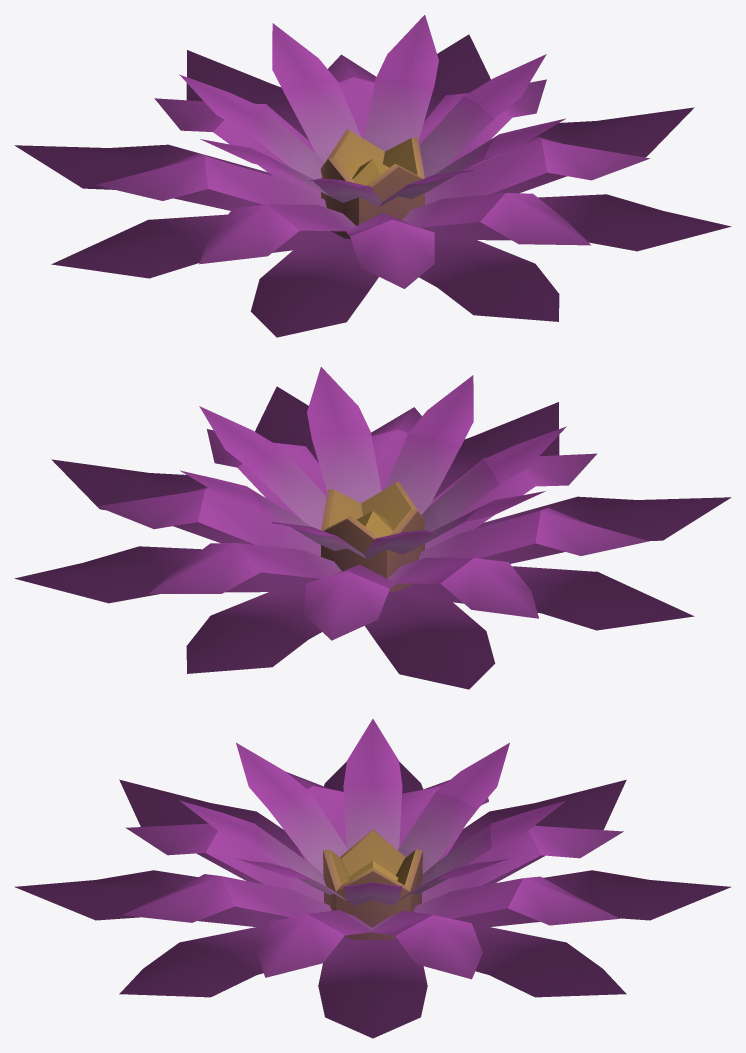
The model's file is WaterLilly.fbx.
The picture shows the model from 3 angles, top to bottom: view 1: azimuth 30°, elevation 25°; view 2: azimuth 150°, elevation 25°; view 3: azimuth 270°, elevation 25°; orthographic projection. The views are drawn at different scales.
Visible parts, largest first — view 1: WaterLilly; view 2: WaterLilly; view 3: WaterLilly.
Boxes of the visible parts, box(x1,y1,x2,y2) form: WaterLilly: box(14, 15, 731, 337); WaterLilly: box(14, 367, 731, 689); WaterLilly: box(15, 719, 730, 1038).
Size of the model in its own units: 140 by 28.28 by 140.
